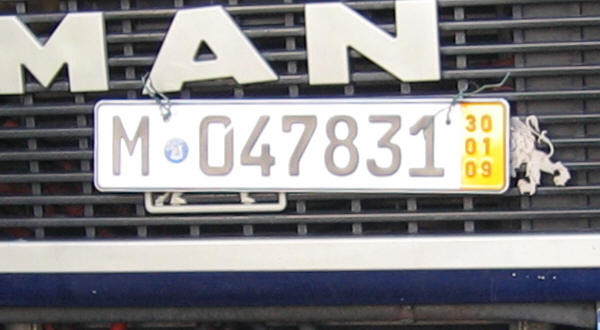license_plate: (97, 100, 508, 190)
